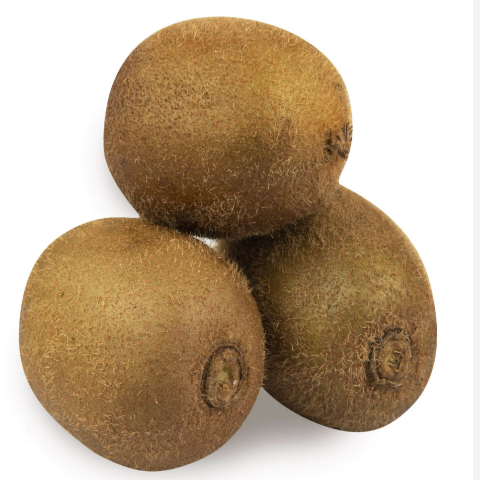kiwi: (4, 198, 290, 479), (79, 4, 357, 245), (206, 185, 428, 461)
